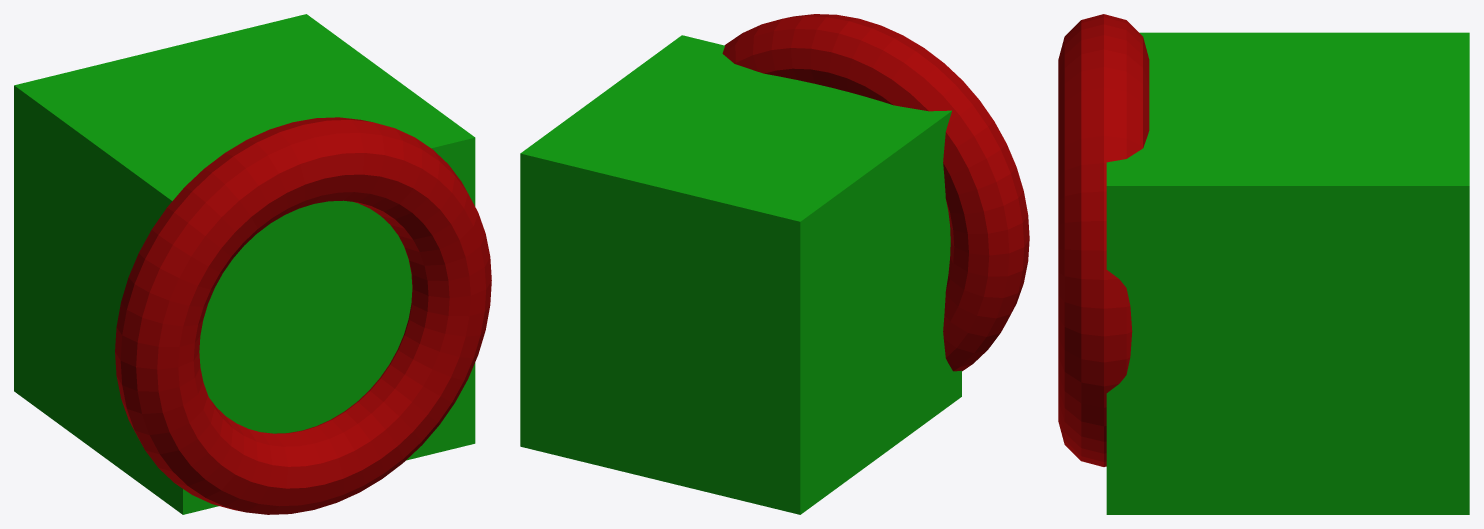
The model's file is sample.obj.
The picture shows the model from 3 angles, left to right: view 1: azimuth 30°, elevation 25°; view 2: azimuth 150°, elevation 25°; view 3: azimuth 270°, elevation 25°; orthographic projection. The views are drawn at different scales.
Visible parts, largest first — view 1: Cube, Torus; view 2: Cube, Torus; view 3: Cube, Torus.
Part boxes in pixels (box(x1,y1,x2,y2)): Cube: box(14, 14, 475, 514); Torus: box(115, 117, 491, 514); Cube: box(520, 35, 961, 514); Torus: box(722, 14, 1029, 371); Cube: box(1106, 32, 1469, 514); Torus: box(1058, 14, 1149, 466).
Size of the model in its own units: 2.5 by 2.5 by 2.26.
